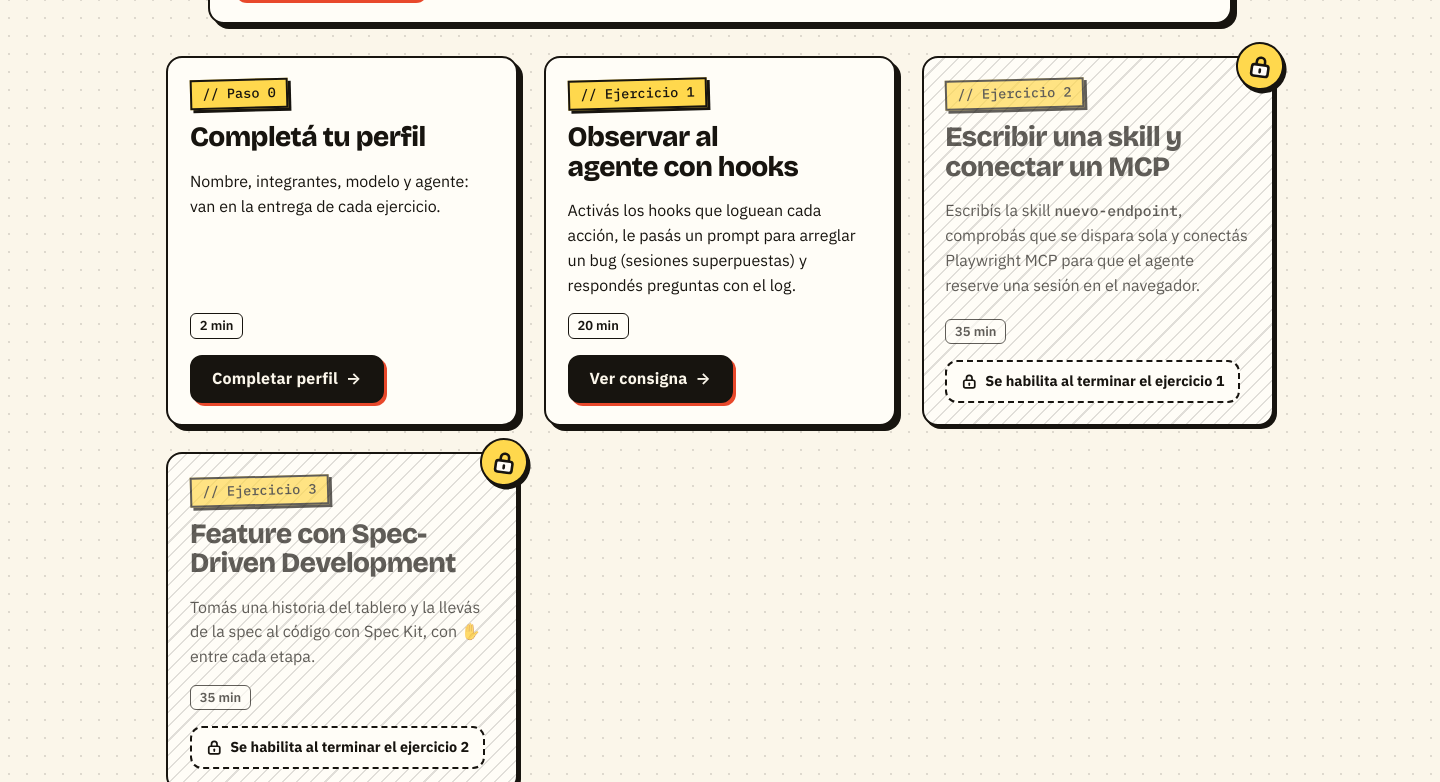
Test case: Mi perfil › se llega desde el índice de ejercicios
(page scrolled)
Step 1. Click the link "Completar perfil →" → (287, 379), box [190,355,384,403]
(page scrolled)
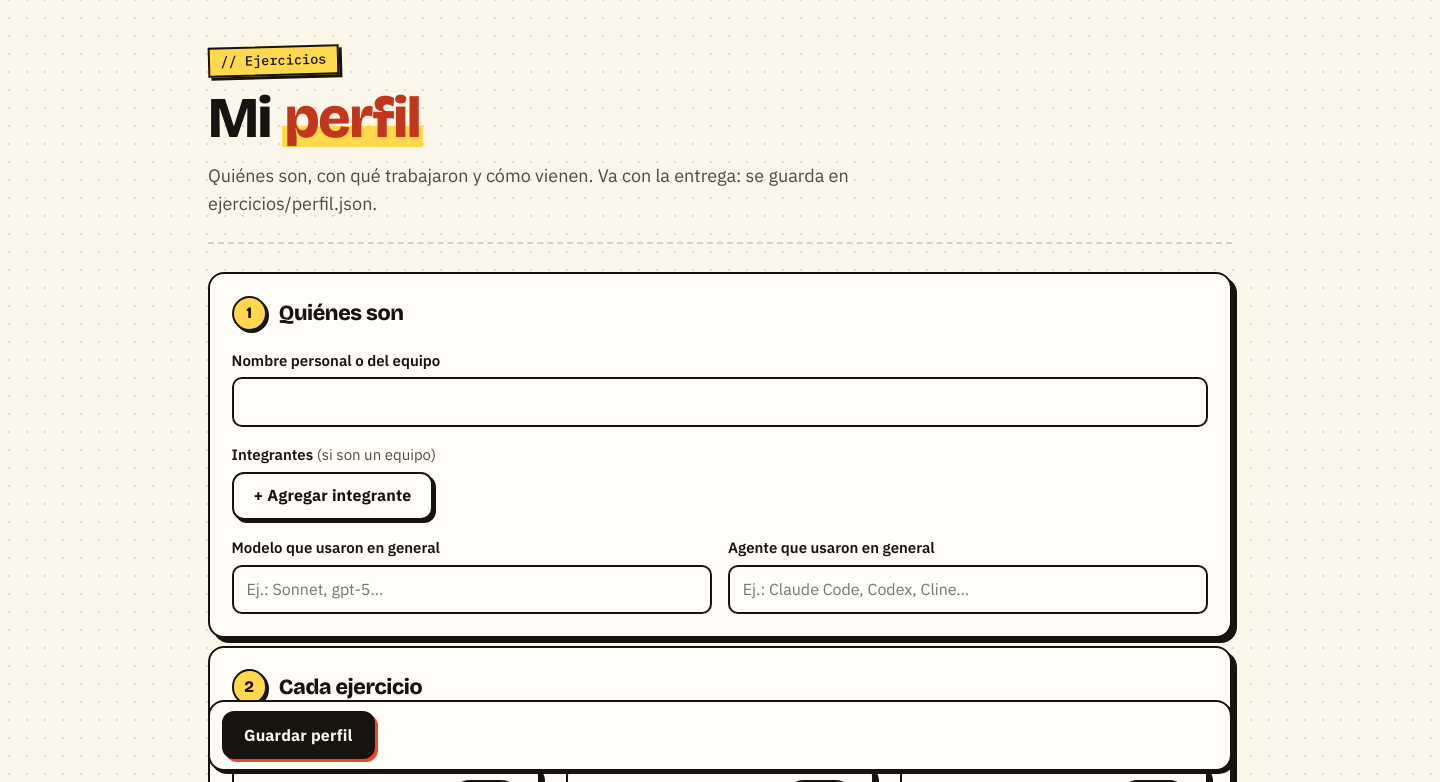
expect the heading "Mi perfil" is shown: met, box [208,83,423,153]
